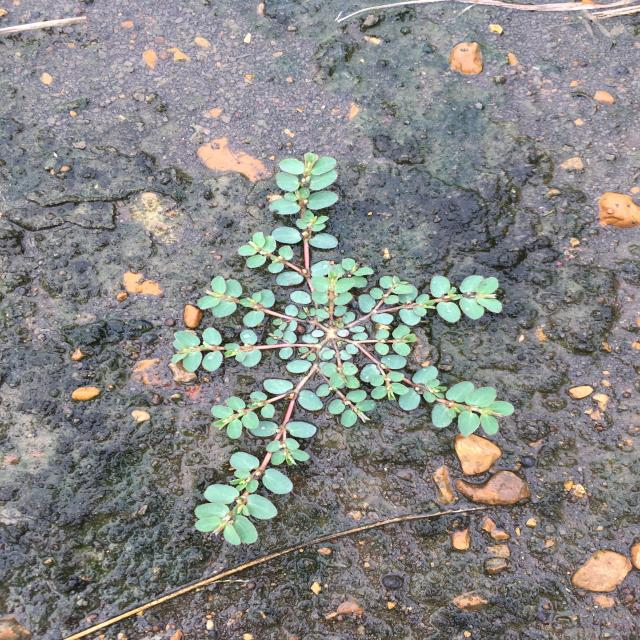SpottedSpurge: (170, 151, 514, 546)
